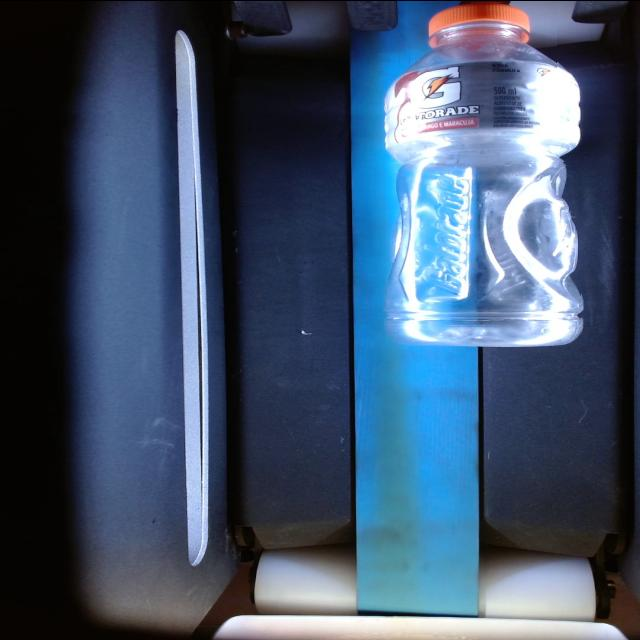bottom: (387, 153, 581, 345)
label: (385, 58, 580, 161)
neck: (409, 2, 557, 70)
